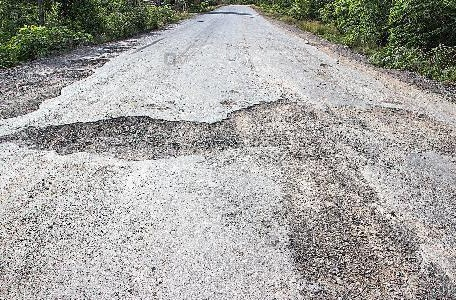pothole: (15, 113, 211, 158), (218, 95, 297, 154)
